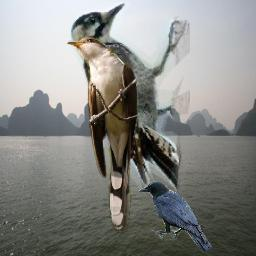Crow: (138, 181, 213, 254)
Cuckoo: (66, 36, 139, 231)
Woodpecker: (68, 2, 190, 194)
